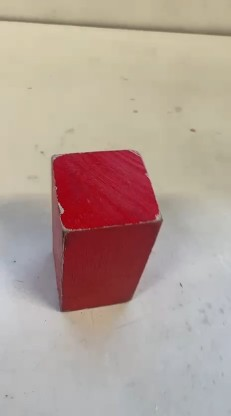red: (47, 128, 179, 318)
